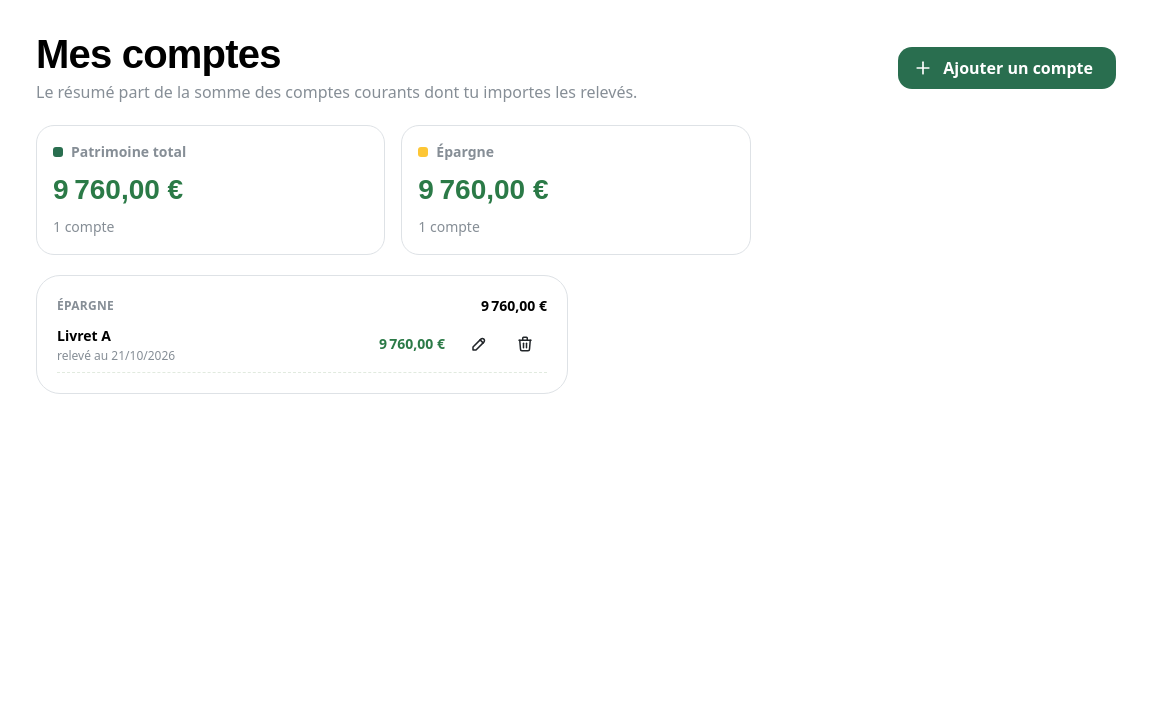
AccountsPage › explains why a savings account paid into must stay one
The width and height of the screenshot is (1152, 720).
Click the button named "Modifier Livret A" at point(479, 344), box [457,322,501,366]
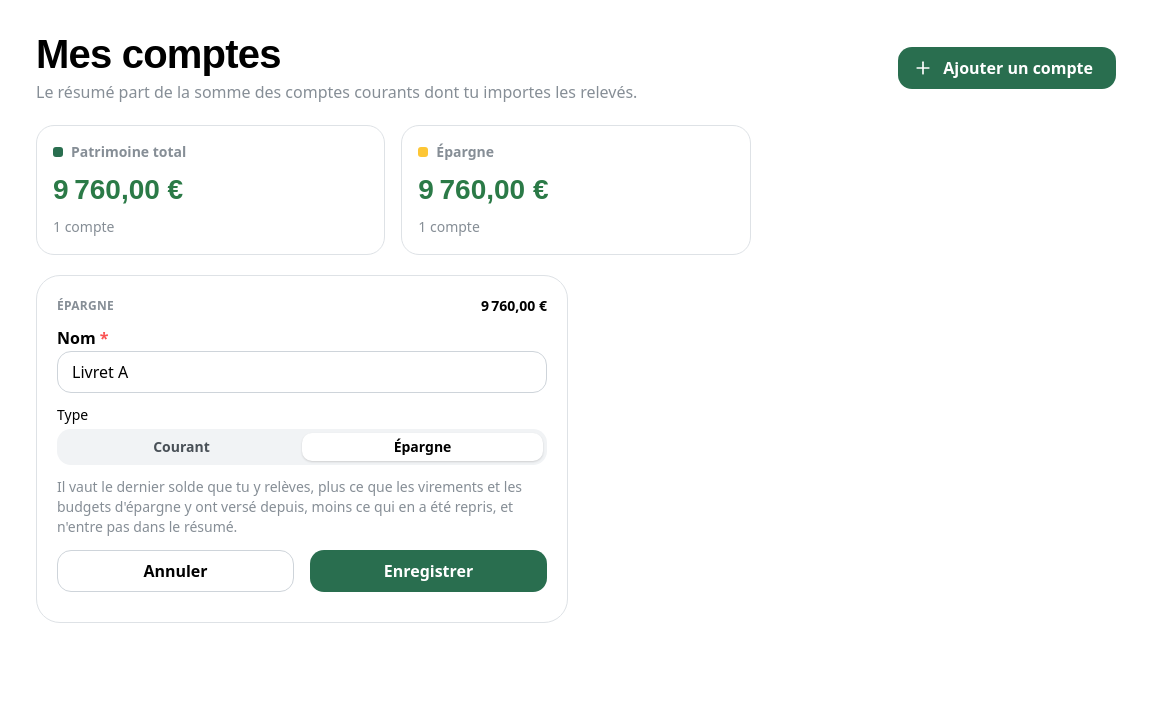
Click the text "Courant" at point(182, 447), box [153,437,210,456]
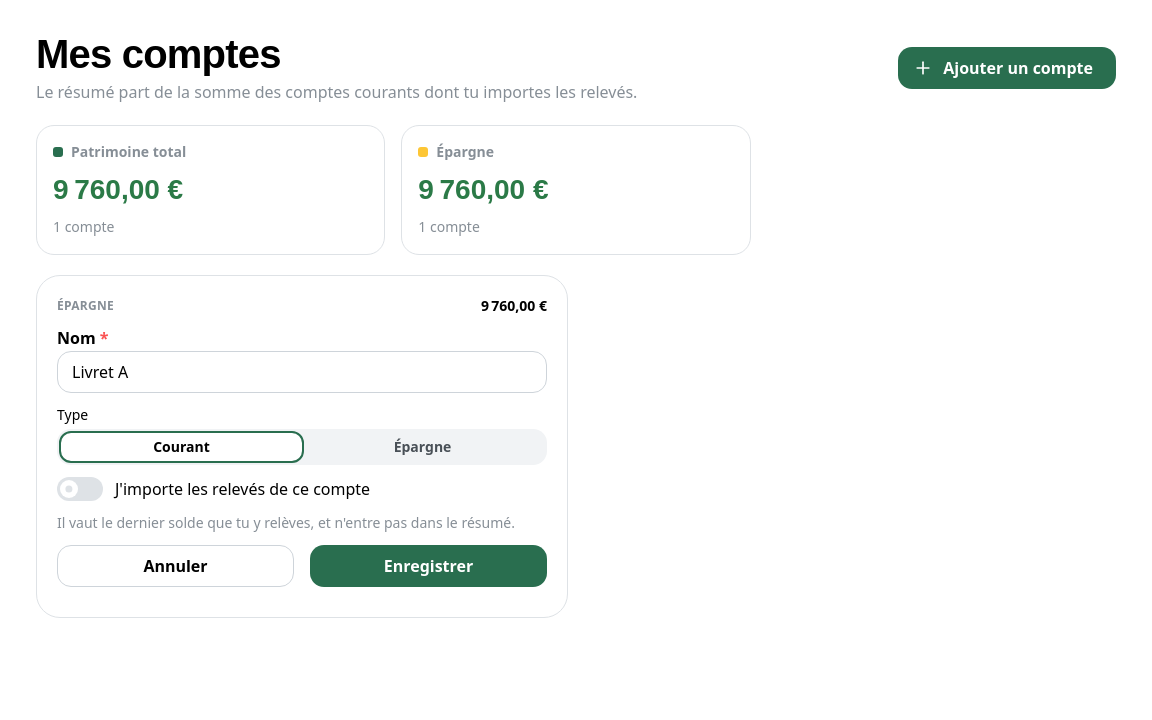
Click the button "Enregistrer" at point(428, 566), box [310,545,547,587]
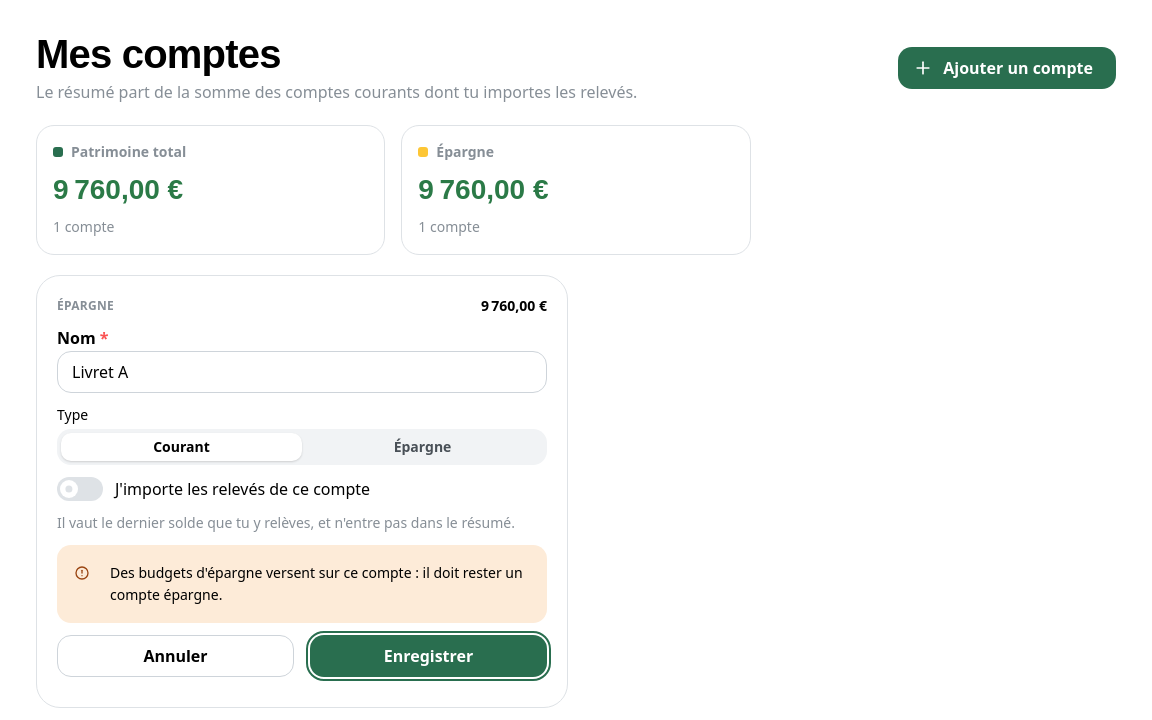
Expected: the text "Des budgets d'épargne versent sur ce compte : il doit rester un compte épargne." is shown, [110,562,530,606]
